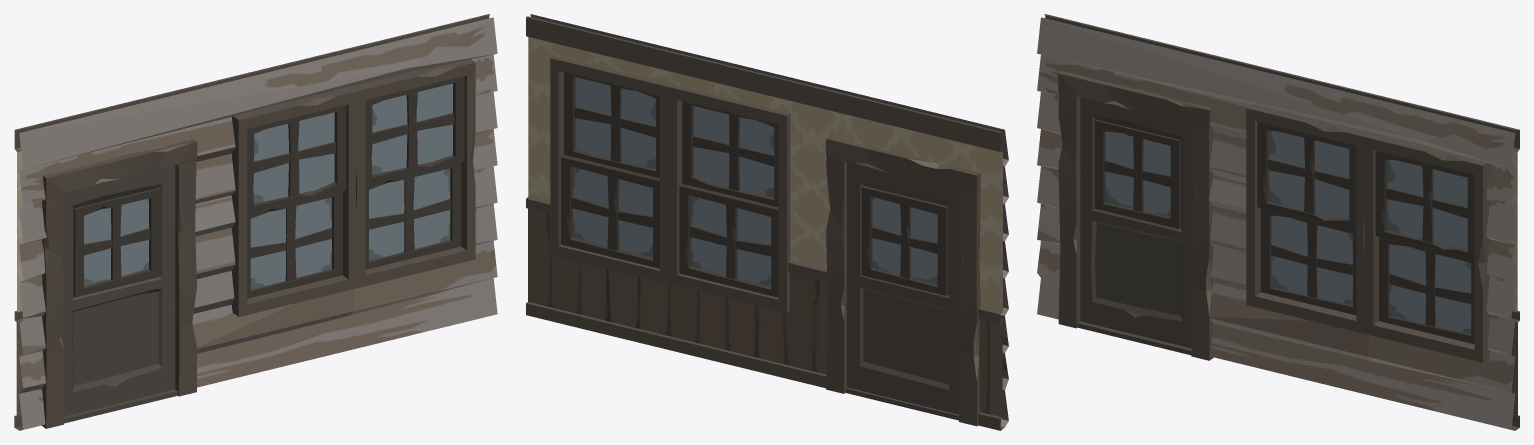
File: SM_Bld_Single_Front_02.fbx
3 views of the same model, side by side, from view 1: azimuth 30°, elevation 25°; view 2: azimuth 150°, elevation 25°; view 3: azimuth 330°, elevation 25° (orthographic).
Parts seen in each view (by area): view 1: SM_Bld_Single_Front_02, SM_Building_Single_FrontDoor_02, SM_Building_Single_Front_Window_02, SM_Building_Single_FrontDoor_Window_02; view 2: SM_Bld_Single_Front_02, SM_Building_Single_FrontDoor_02, SM_Building_Single_Front_Window_02, SM_Building_Single_FrontDoor_Window_02; view 3: SM_Bld_Single_Front_02, SM_Building_Single_FrontDoor_02, SM_Building_Single_Front_Window_02, SM_Building_Single_FrontDoor_Window_02.
Part boxes in pixels (x1,y1,x2,y2): SM_Bld_Single_Front_02: (14, 14, 497, 430); SM_Building_Single_FrontDoor_02: (61, 165, 175, 416); SM_Building_Single_Front_Window_02: (250, 83, 452, 289); SM_Building_Single_FrontDoor_Window_02: (84, 198, 148, 286); SM_Bld_Single_Front_02: (526, 14, 1008, 430); SM_Building_Single_FrontDoor_02: (847, 162, 962, 414); SM_Building_Single_Front_Window_02: (573, 77, 774, 286); SM_Building_Single_FrontDoor_Window_02: (872, 197, 937, 284); SM_Bld_Single_Front_02: (1037, 14, 1519, 430); SM_Building_Single_FrontDoor_02: (1080, 97, 1194, 348); SM_Building_Single_Front_Window_02: (1269, 130, 1471, 334); SM_Building_Single_FrontDoor_Window_02: (1105, 131, 1170, 216).
Size of the model in its own units: 500 by 300 by 23.46.
Materials: 1 (1 with a texture image).
